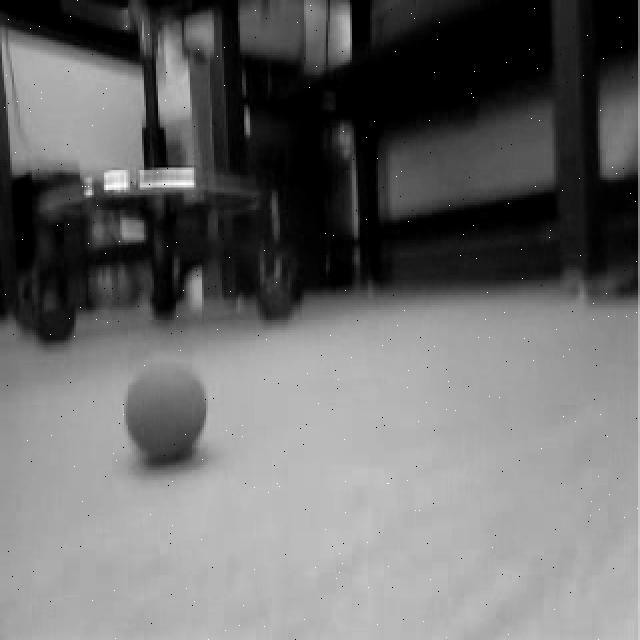ping-pong-ball: (124, 348, 210, 463)
